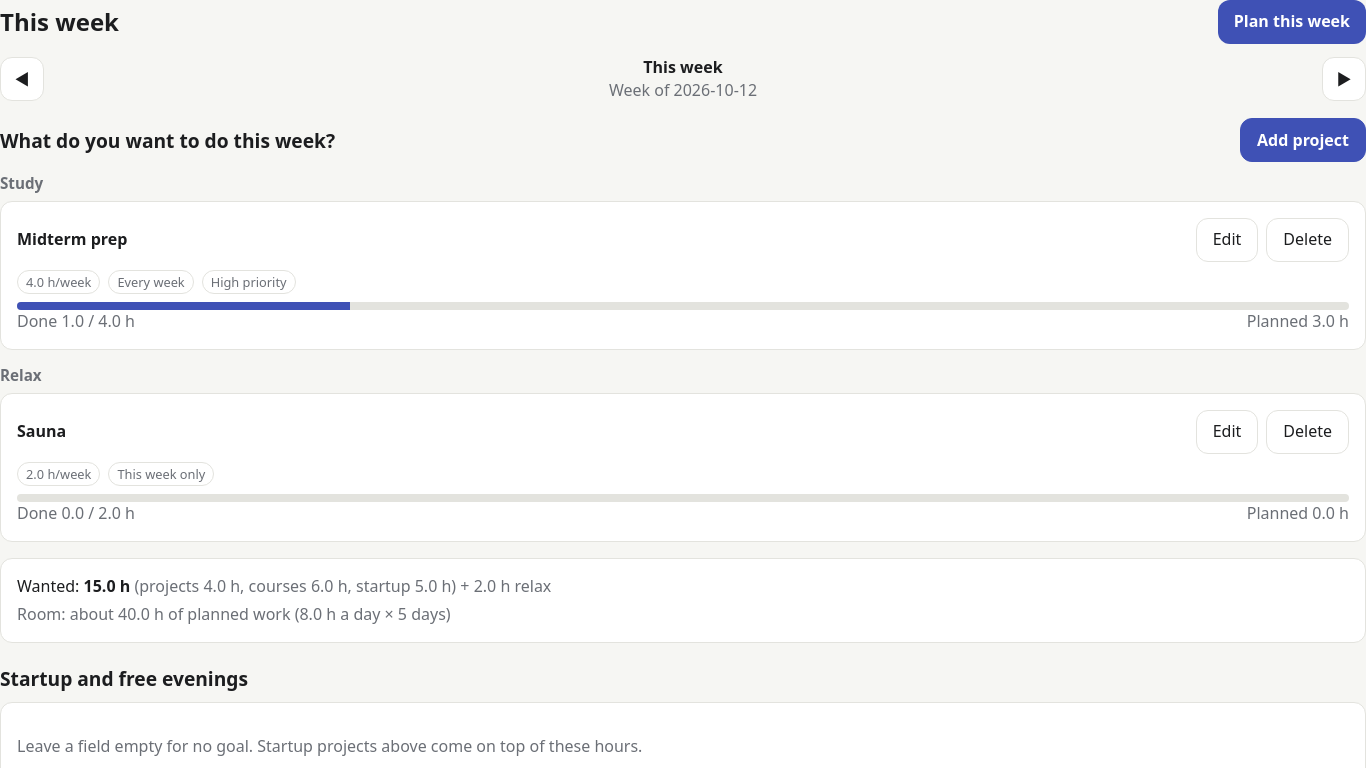
Test: the week switcher loads another week
Expected: the text "Midterm prep" is shown, [17,228,127,250]
Step 1. Click the button named "Next week" → click(1344, 79), box [1322,57,1365,101]
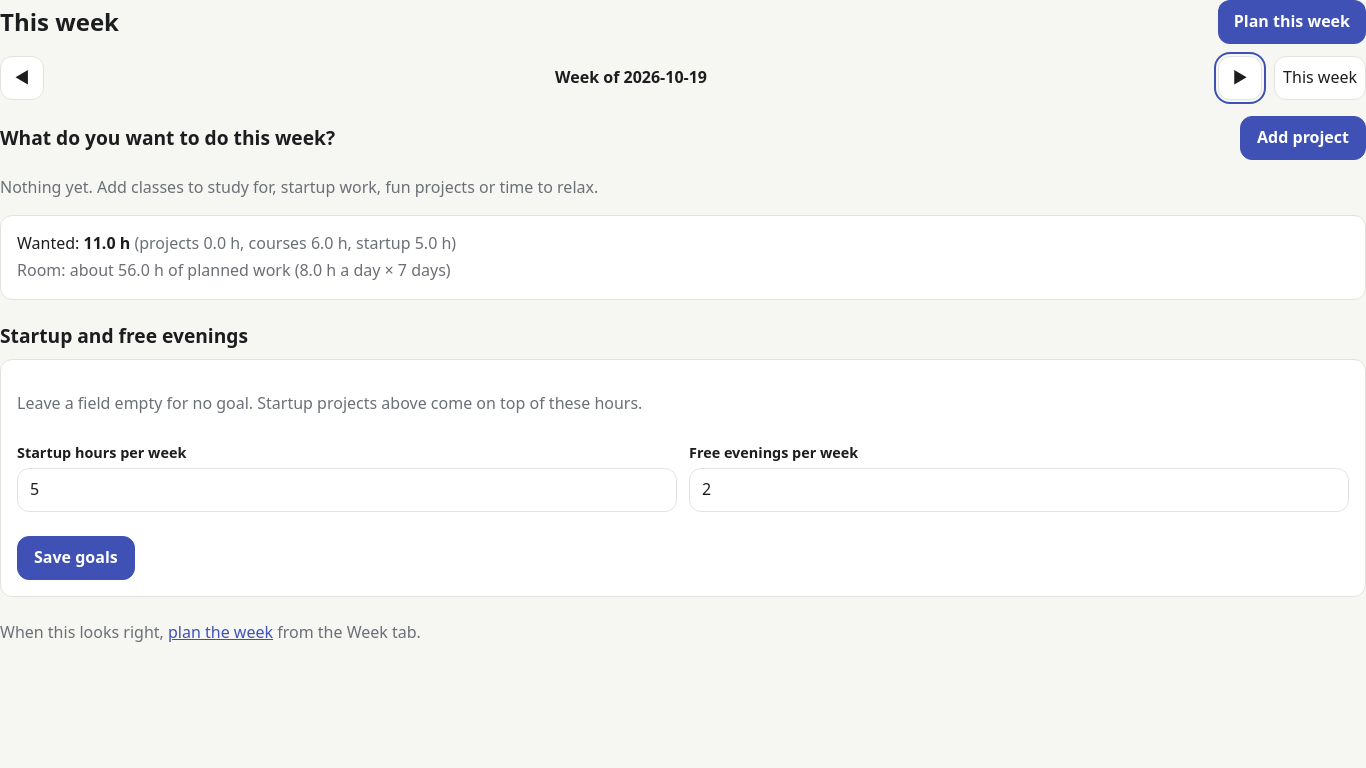
Now the text "Nothing yet" is shown, box [0,176,598,198]
Now the text "Week of 2026-10-19" is shown, box [555,66,707,88]
Step 2. Click the button "This week" → click(1320, 78), box [1274,56,1365,100]
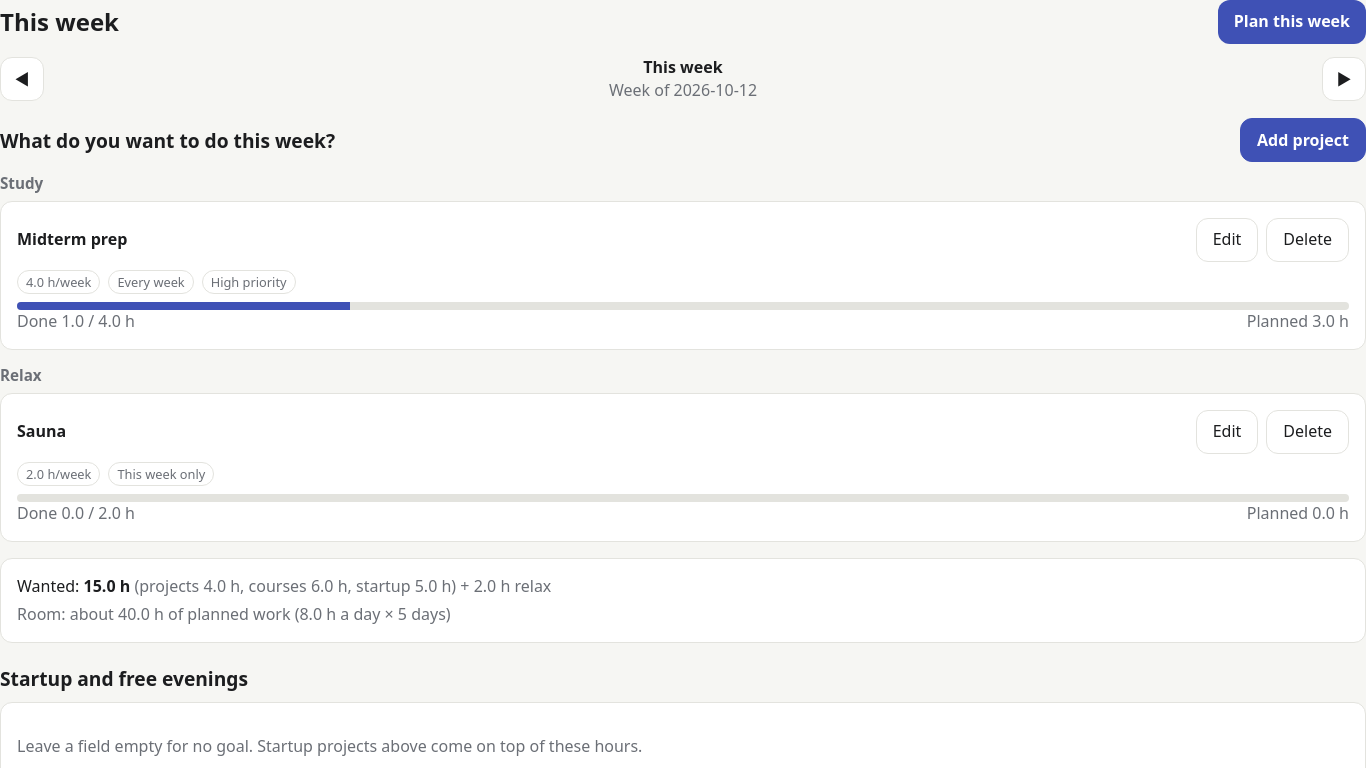
Now the text "Midterm prep" is shown, box [17,228,127,250]
